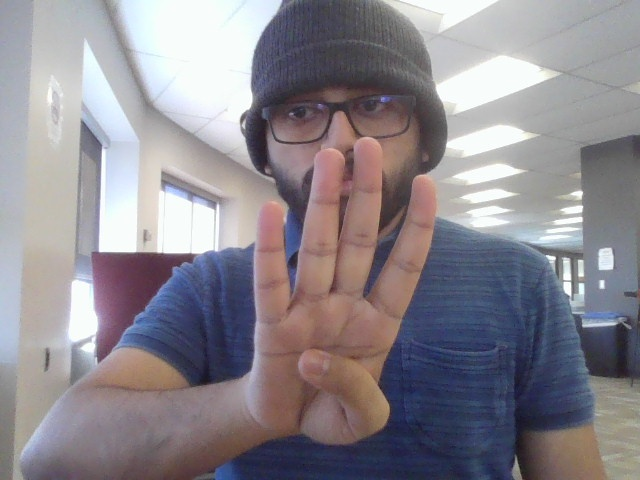start: (250, 140, 447, 451)
